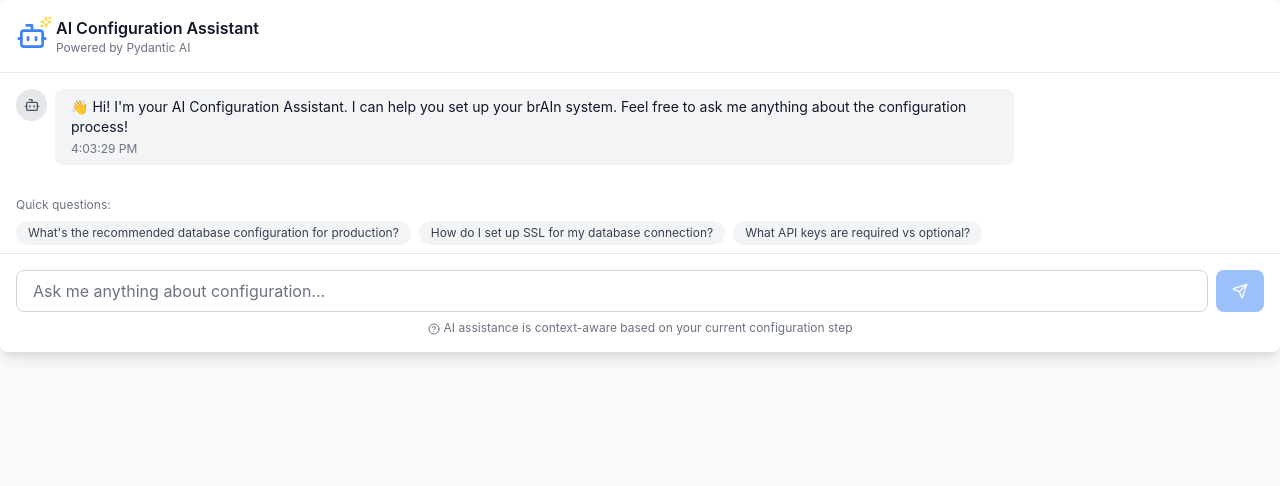
Test: ConfigAssistant › Response Content › should provide service configuration help
Type "service" into the field with placeholder "Ask me anything about configuration..." at (612, 291), box [16,270,1208,312]
Then press Enter
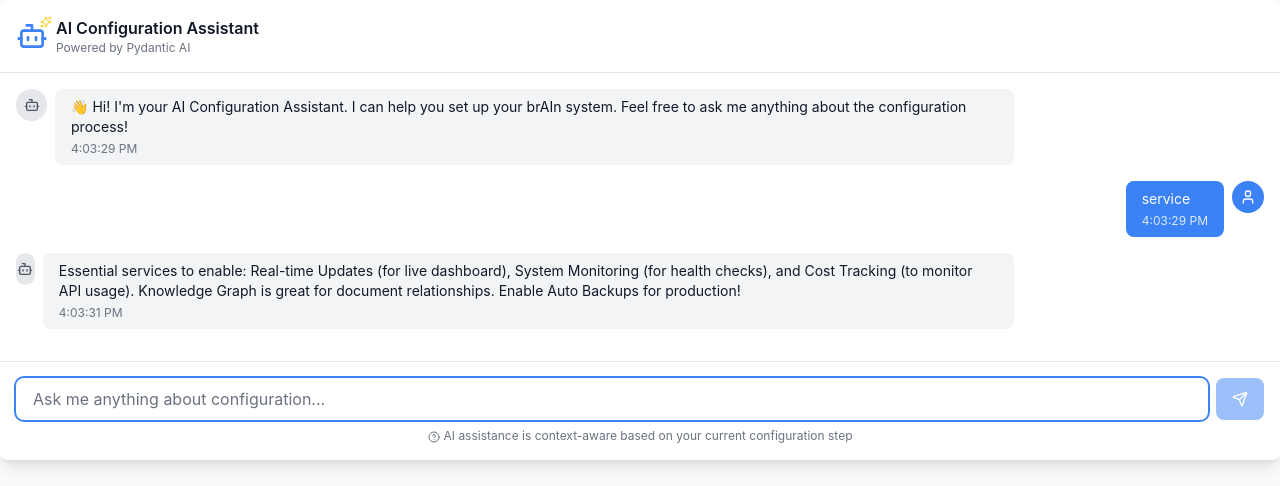
Check: the text "System Monitoring" is shown, box [59,262,976,299]
